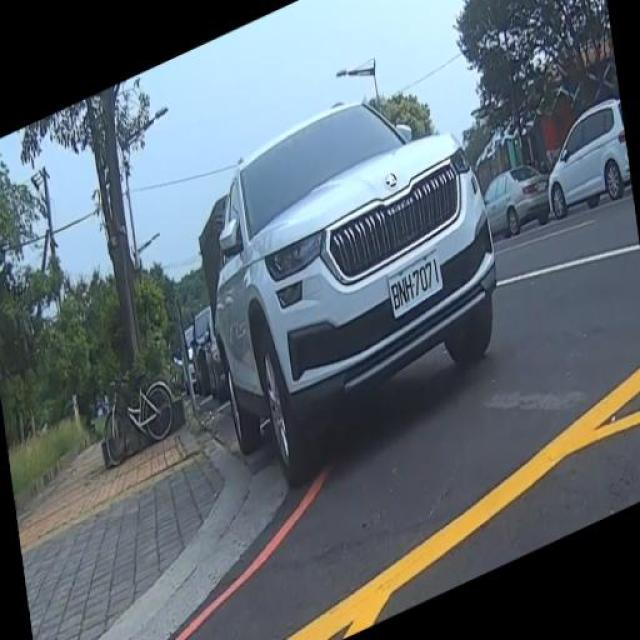illegalparking: (183, 67, 507, 492)
